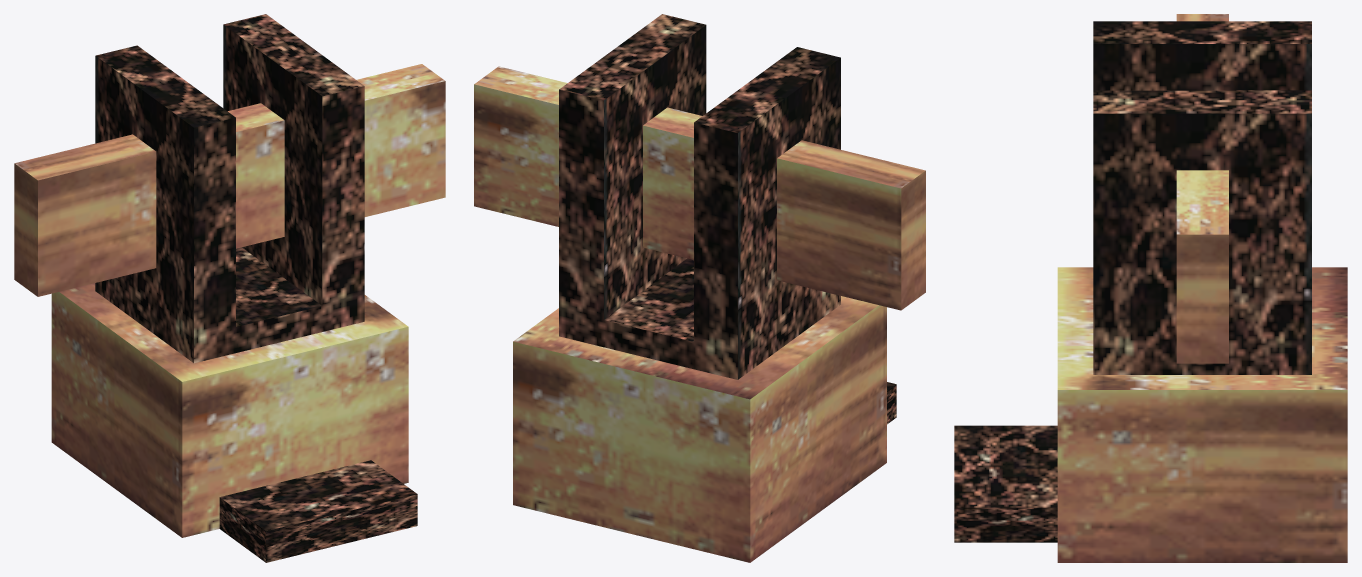
Rendered from frn_all_decorative_sm_s4_l0.fbx.
The picture shows the model from 3 angles, left to right: view 1: azimuth 30°, elevation 25°; view 2: azimuth 150°, elevation 25°; view 3: azimuth 270°, elevation 25°; orthographic projection. The views are drawn at different scales.
Parts seen in each view (by area): view 1: mesh_node; view 2: mesh_node; view 3: mesh_node.
Part boxes in pixels (x1,y1,x2,y2): mesh_node: [14, 14, 445, 562]; mesh_node: [474, 14, 925, 562]; mesh_node: [954, 14, 1347, 562].
Bounding box in the file's own units: 0.7203 × 0.6613 × 0.5424.
1 material, 1 textured.
